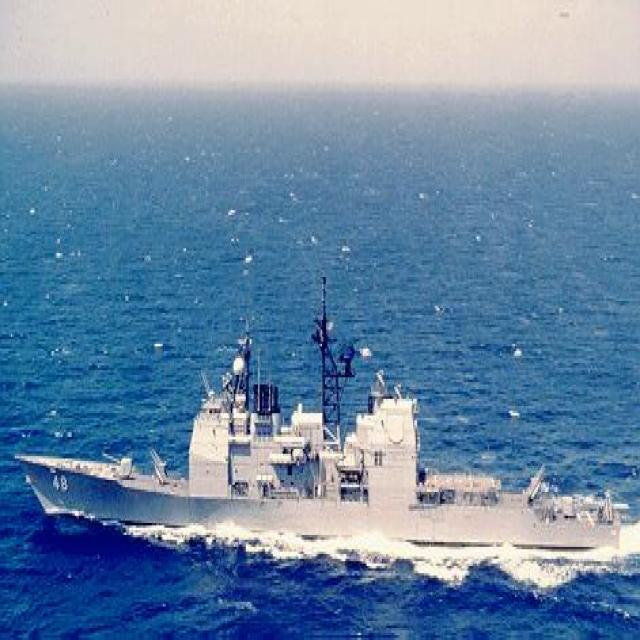navalvessels: (14, 319, 634, 603)
